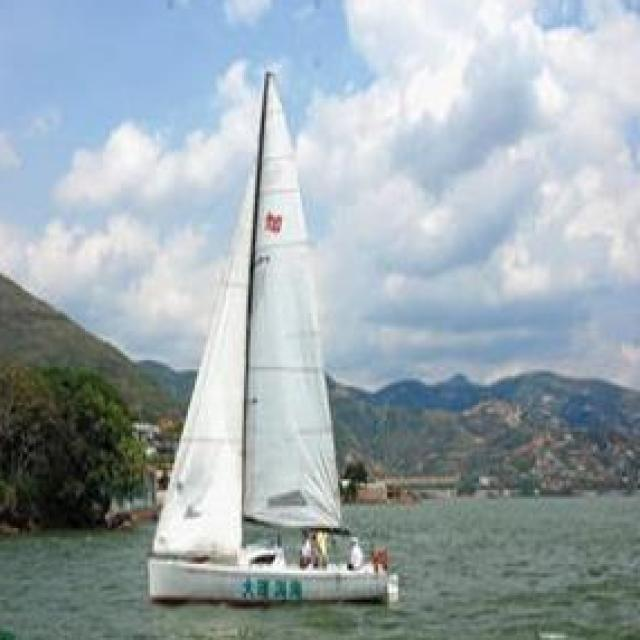sailboat: (152, 68, 407, 602)
